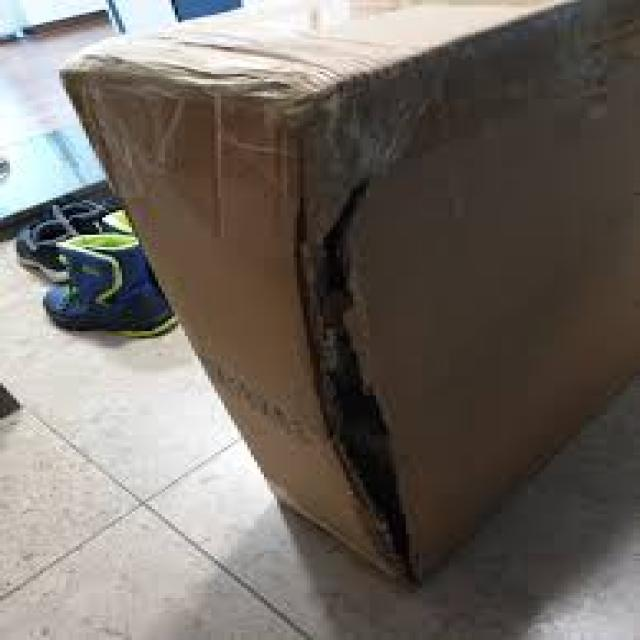box: (68, 176, 557, 477)
opened: (71, 177, 555, 260)
